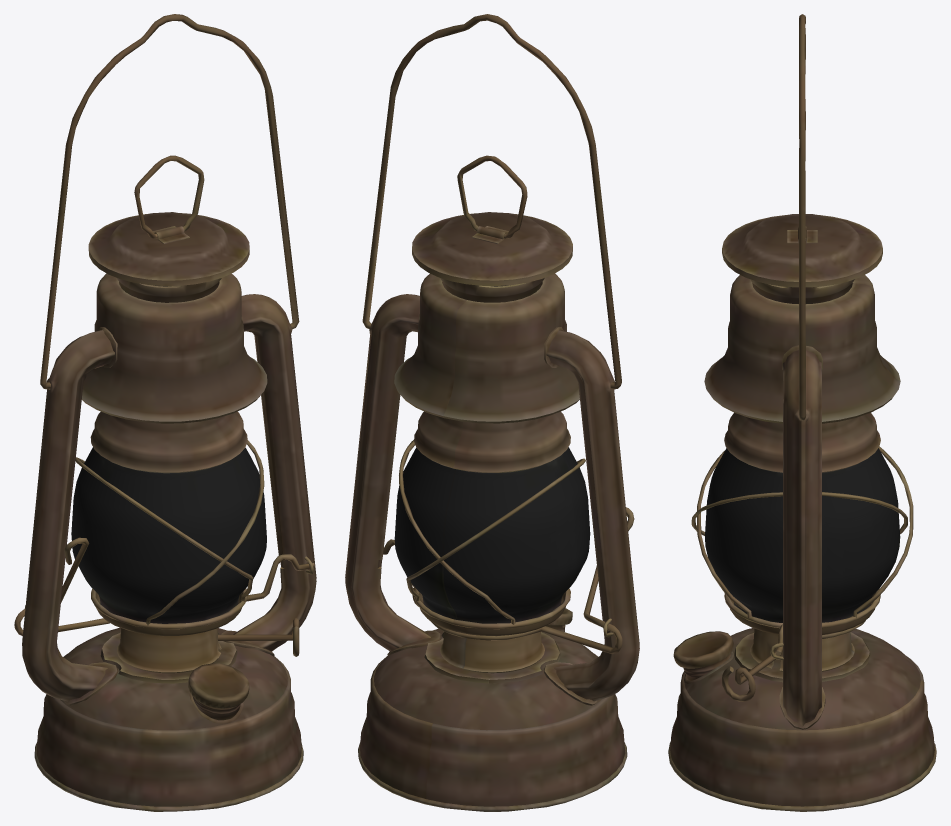
Rendered from oillantern.glb.
The picture shows the model from 3 angles, left to right: view 1: azimuth 30°, elevation 25°; view 2: azimuth 150°, elevation 25°; view 3: azimuth 270°, elevation 25°; orthographic projection.
Parts seen in each view (by area): view 1: Lantern_01, Lantern_01_glass; view 2: Lantern_01, Lantern_01_glass; view 3: Lantern_01, Lantern_01_glass.
Part boxes in pixels (x1,y1,x2,y2): Lantern_01: (14, 14, 316, 811); Lantern_01_glass: (71, 447, 266, 623); Lantern_01: (345, 14, 639, 811); Lantern_01_glass: (394, 447, 590, 623); Lantern_01: (668, 14, 936, 811); Lantern_01_glass: (705, 448, 900, 622).
Size of the model in its own units: 0.1221 by 0.2942 by 0.097.
2 materials, 2 textured.
